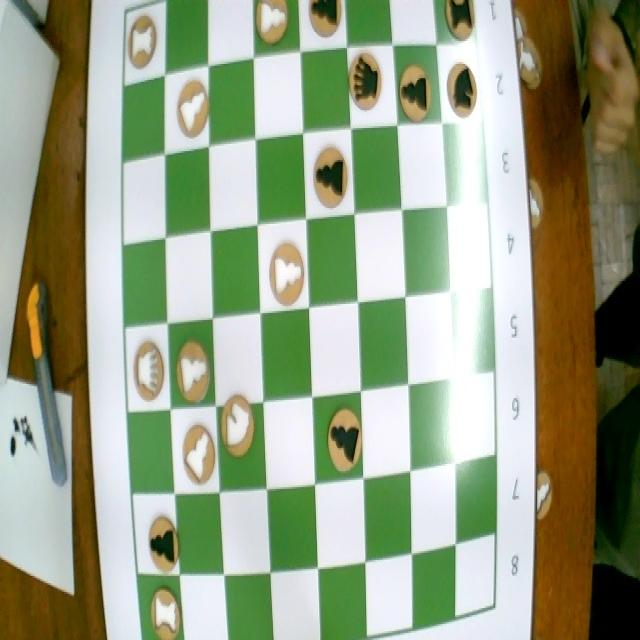chess-pieces: (321, 396, 366, 484), (264, 233, 310, 310), (310, 133, 356, 206), (170, 340, 214, 411), (219, 392, 261, 466), (395, 58, 440, 127), (127, 338, 169, 406), (444, 64, 482, 133), (178, 424, 218, 489), (436, 0, 486, 50), (348, 46, 384, 112), (175, 76, 209, 145), (127, 15, 162, 68), (304, 0, 347, 41), (255, 0, 293, 46)
